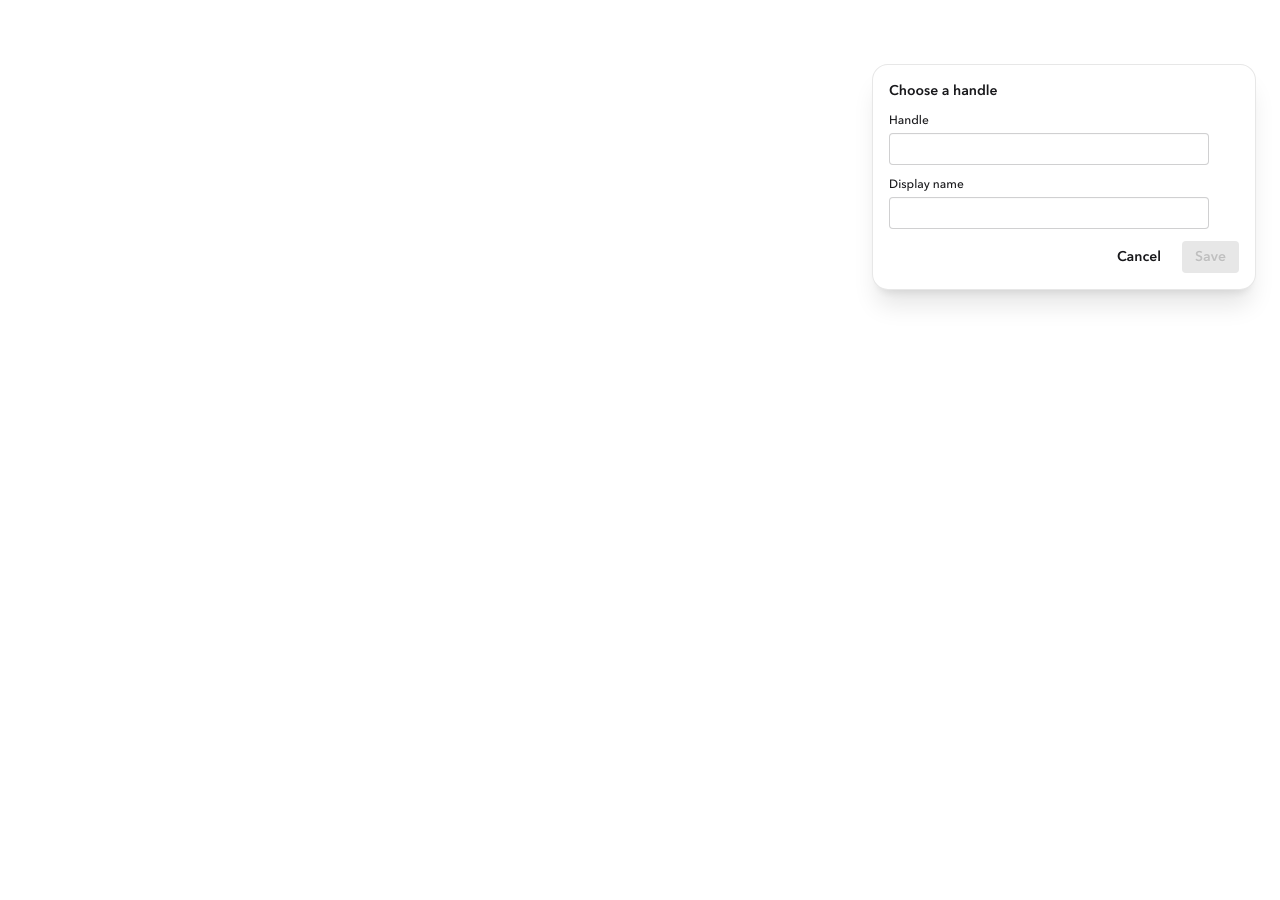
Test: HandleSheet › maps handle_reserved to its copy
Type "reader_1" into the field labelled "Handle" at (1049, 149), box x1=889 y1=133 x2=1209 y2=165
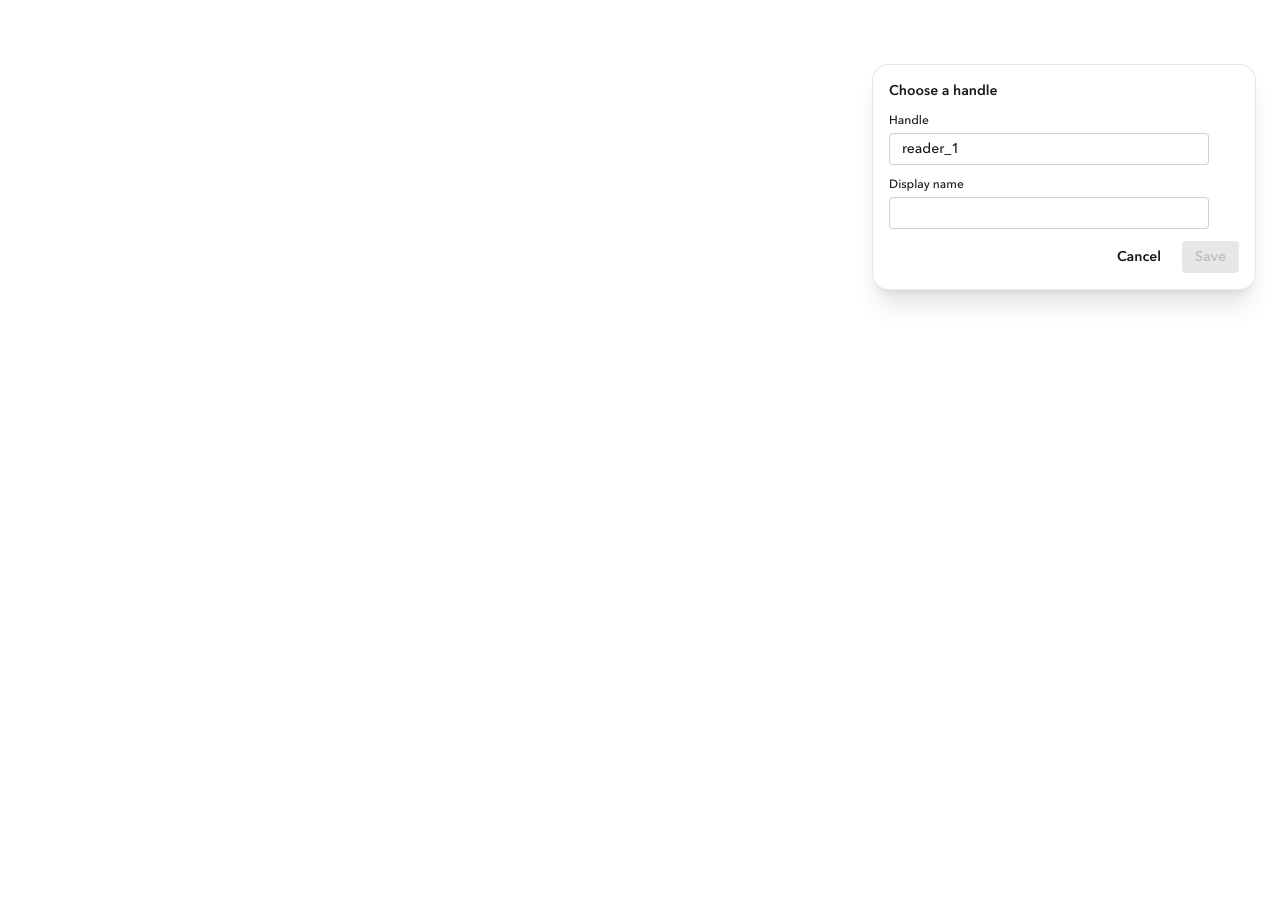
Type "Reader" into the field labelled "Display name" at (1049, 213), box x1=889 y1=197 x2=1209 y2=229
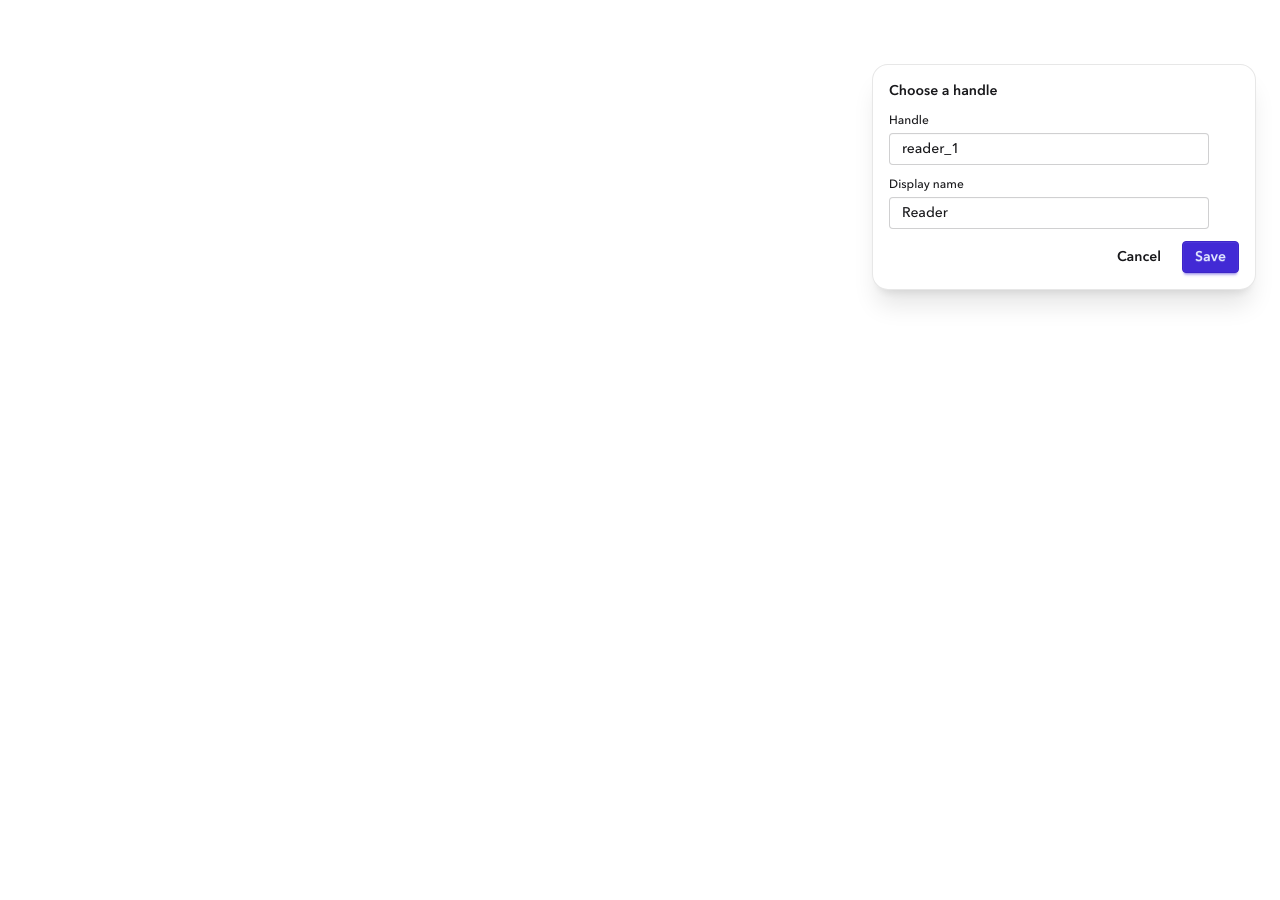
Click the button "Save" at (1210, 257), box x1=1182 y1=241 x2=1239 y2=273
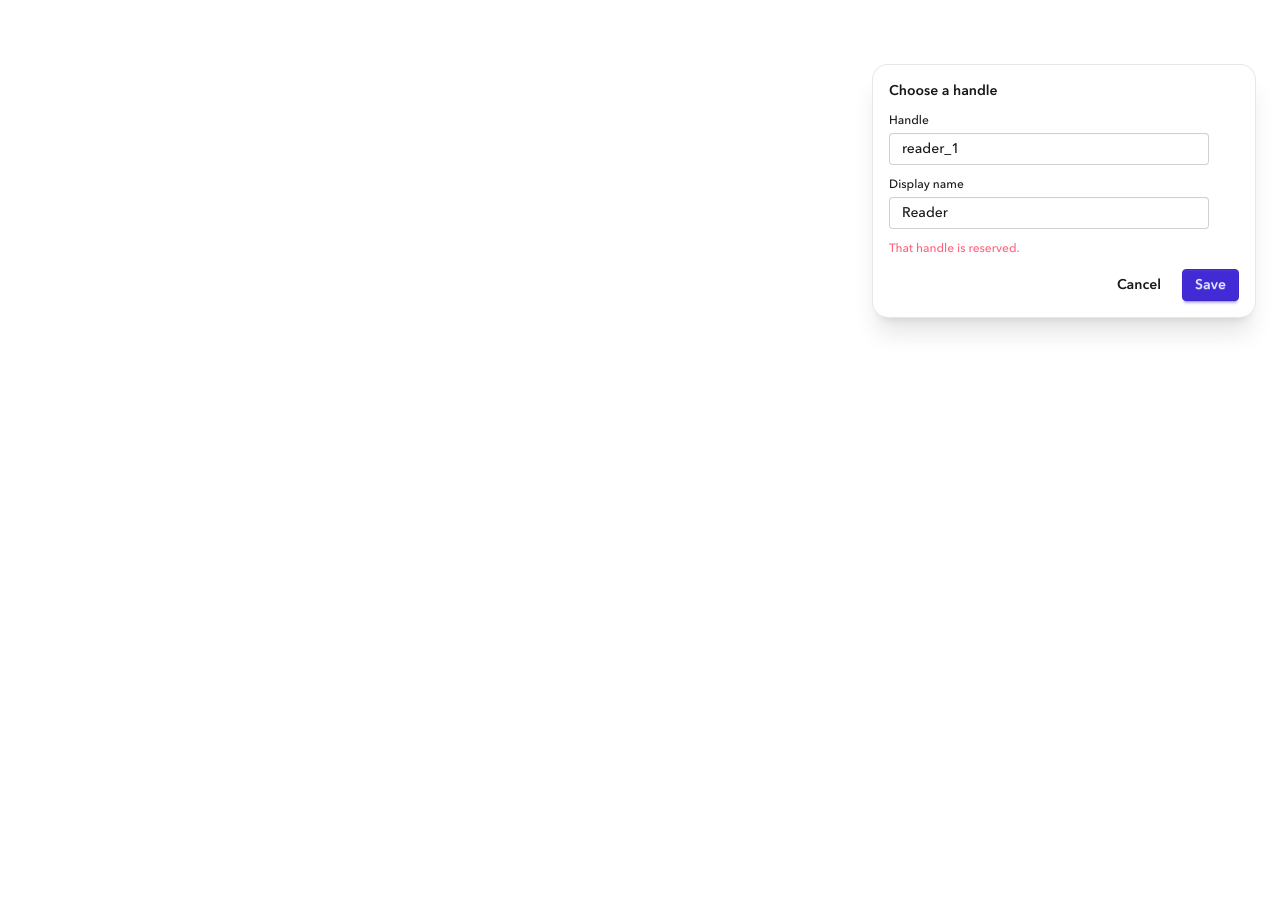
expect the text "That handle is reserved." is shown: met, box x1=889 y1=243 x2=1020 y2=255
